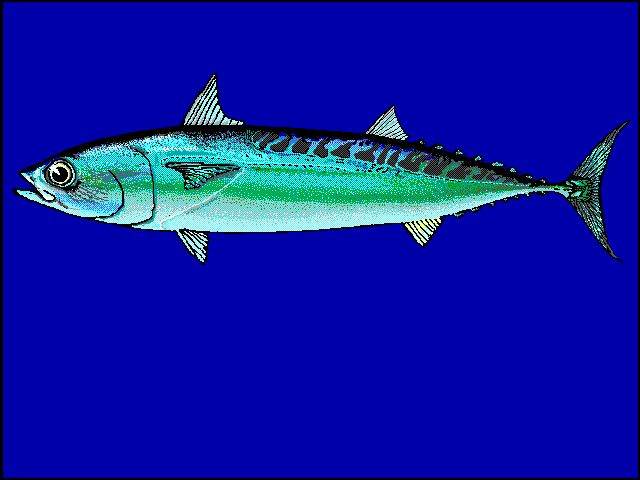fish: (17, 74, 624, 268)
